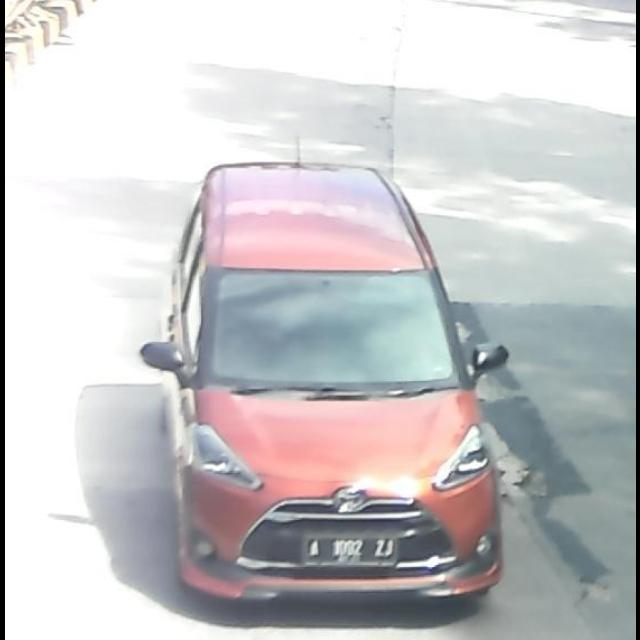plate: (304, 532, 396, 570)
